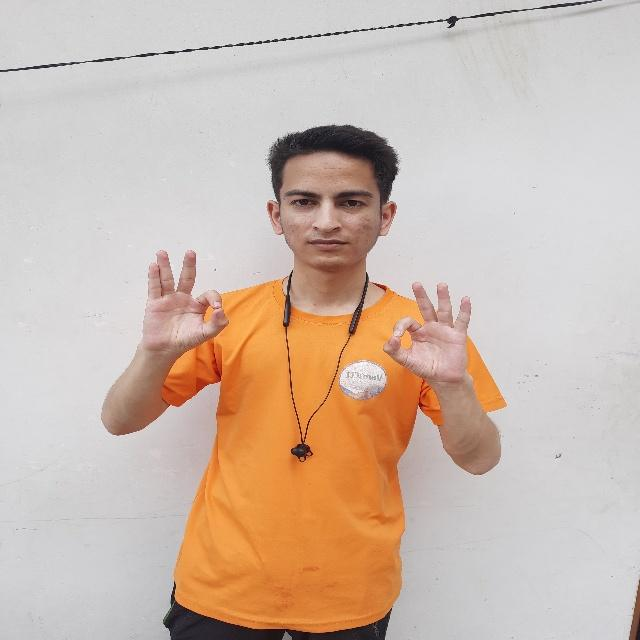Okay: (378, 277, 482, 391), (137, 237, 230, 359)
